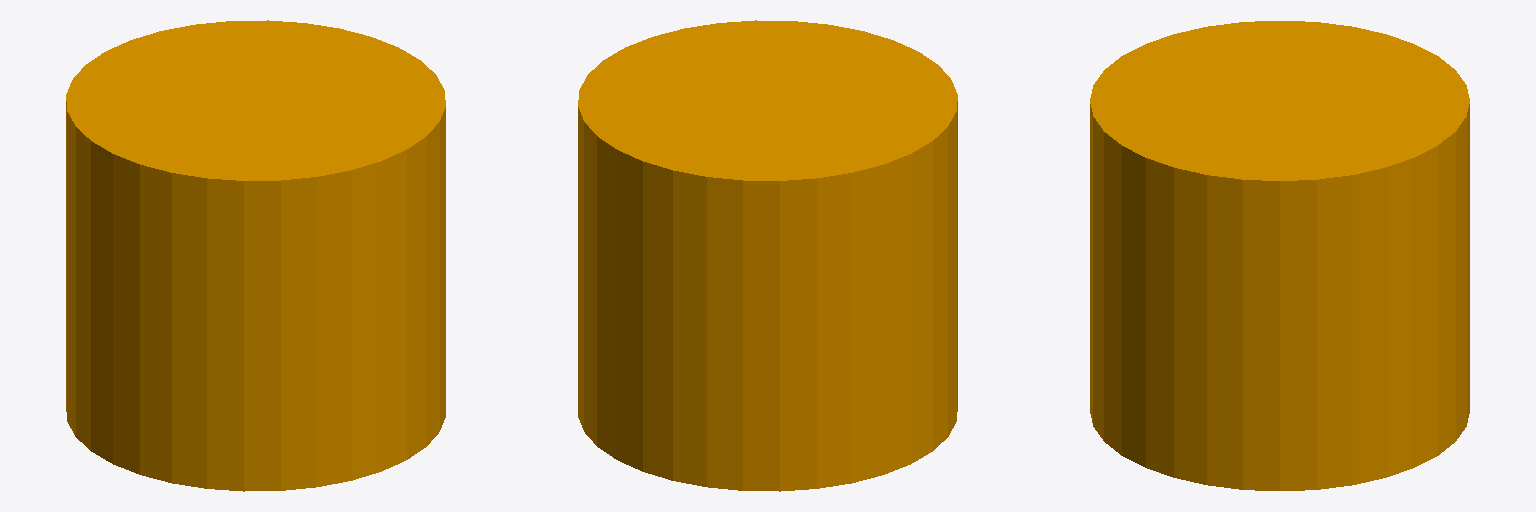
URDF robot description (object):
<robot name="object">
  <link name="object">
    <visual>
      <origin xyz="0 0 0" />
      <geometry>
        <cylinder length="0.07200000000000001" radius="0.04" />
      </geometry>
    </visual>

    <collision>
      <origin xyz="0 0 0" />
      <geometry>
        <cylinder length="0.07200000000000001" radius="0.04" />
      </geometry>
    </collision>

    <inertial>
      <mass value="0.05" />
      <inertia ixx="0.0001" ixy="0.0" ixz="0.0" iyy="0.0001" iyz="0.0" izz="0.0001" />
    </inertial>
  </link>
</robot>

--- Facts derived from the render (not from the file) ---
3 views of the same robot in one strip: view 1: azimuth 30°, elevation 25°; view 2: azimuth 150°, elevation 25°; view 3: azimuth 270°, elevation 25° (orthographic).
Model object with 1 links and 0 joints (none), rooted at object, posed every joint at zero.
Links seen in each view (by area): view 1: object; view 2: object; view 3: object.
Boxes of the visible links, left/top/right/bottom form: object: left=66, top=20, right=445, bottom=491; object: left=578, top=20, right=957, bottom=491; object: left=1090, top=21, right=1469, bottom=490.
Bounding box of the posed robot: 0.08 × 0.08 × 0.072 m (x, y, z).
Geometry: primitives only (box / cylinder / sphere), no mesh files.